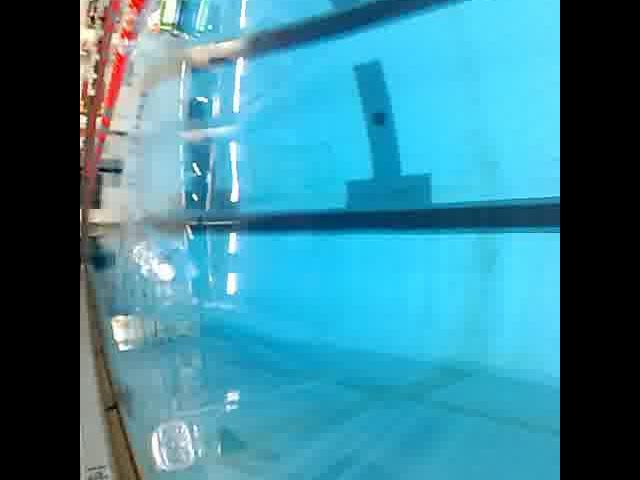Bottle: (142, 414, 198, 478), (128, 236, 178, 286), (108, 307, 134, 359), (142, 8, 166, 34)
Can: (153, 0, 195, 37)
